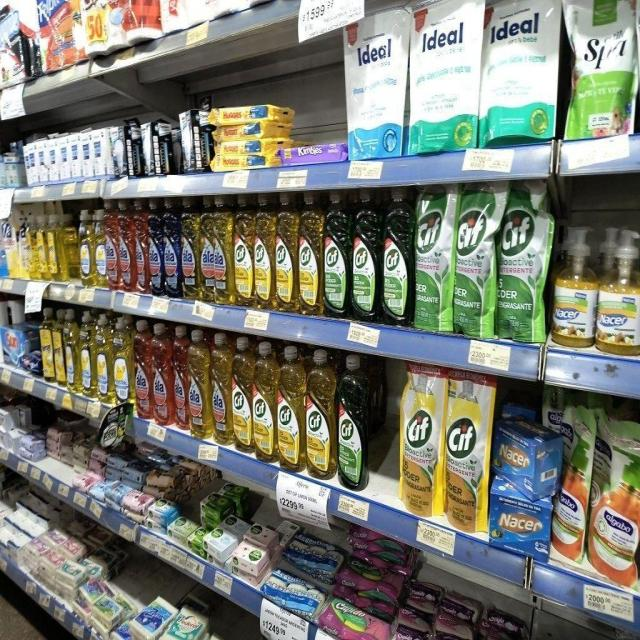ala_conc_amarillo: (188, 328, 210, 438), (211, 332, 231, 445), (213, 193, 233, 304), (181, 196, 199, 301), (200, 194, 214, 304)
ala_conc_azul: (164, 197, 180, 299), (148, 198, 164, 297)
ala_conc_rojo: (152, 322, 172, 426), (134, 320, 151, 420), (172, 325, 188, 431), (118, 199, 134, 293), (134, 198, 148, 295), (106, 200, 118, 291)
cif_conc_bot_amarilla: (306, 348, 336, 479), (277, 344, 305, 471), (298, 190, 323, 316), (275, 190, 298, 313), (253, 340, 276, 462), (254, 192, 275, 310), (232, 334, 252, 454), (234, 192, 253, 307)
cif_conc_botella_verde: (382, 187, 412, 326), (337, 353, 367, 490), (352, 188, 379, 322), (324, 190, 349, 318)
cif_conc_sachet_amarillo: (445, 373, 487, 531), (400, 366, 442, 516)
cif_conc_sachet_verde: (498, 181, 546, 342), (454, 182, 495, 336), (413, 184, 452, 332)
magistral_con_amarillo: (113, 315, 133, 407), (96, 312, 112, 403), (80, 310, 94, 398), (64, 308, 78, 392), (79, 209, 93, 286), (94, 207, 105, 288)
